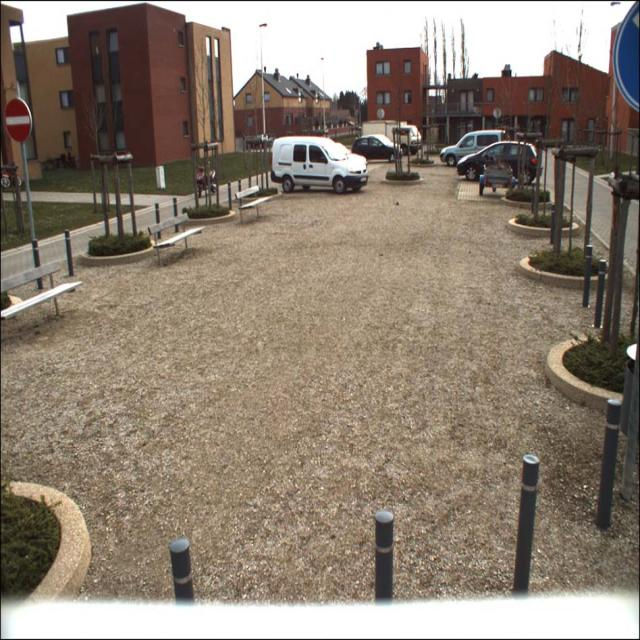girisyok: (5, 98, 32, 144)
